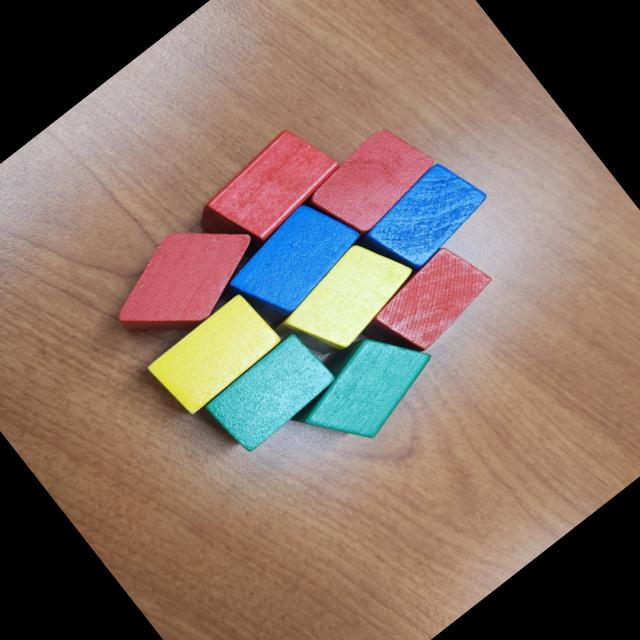blue: (214, 183, 376, 334), (346, 147, 499, 290)
green: (271, 302, 451, 473), (200, 324, 344, 458)
red: (96, 195, 274, 362), (194, 115, 348, 258), (294, 113, 444, 252), (358, 234, 504, 371)
yellow: (267, 222, 428, 374), (139, 286, 288, 424)
